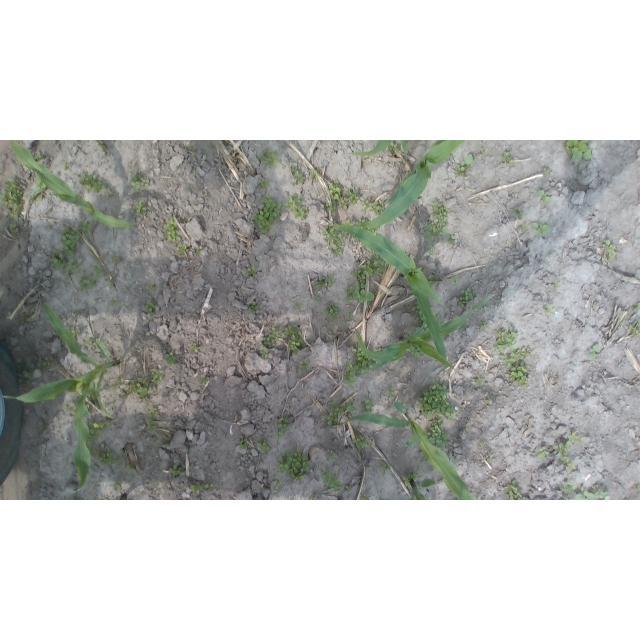Maize: (0, 301, 120, 493), (329, 224, 447, 373), (346, 402, 481, 500), (9, 140, 138, 230), (355, 294, 494, 368), (354, 141, 468, 230), (348, 140, 410, 156), (405, 476, 436, 500)
Weeds: (418, 382, 459, 421), (251, 193, 282, 235), (277, 449, 312, 482), (423, 221, 448, 256), (321, 221, 345, 256), (423, 418, 449, 449), (77, 172, 113, 194), (351, 345, 377, 375), (1, 177, 24, 207), (345, 283, 376, 305), (283, 195, 310, 220), (565, 140, 593, 164), (499, 348, 531, 369), (492, 326, 517, 351), (62, 226, 81, 258), (93, 444, 119, 466), (284, 325, 302, 356), (128, 376, 153, 398), (86, 420, 112, 441), (352, 261, 375, 283), (369, 249, 387, 276), (338, 188, 360, 210), (575, 486, 609, 500), (163, 216, 181, 242), (322, 467, 341, 491), (94, 264, 112, 288), (257, 148, 279, 167), (353, 431, 373, 451), (509, 366, 528, 387), (29, 182, 47, 204), (456, 287, 474, 309), (362, 199, 386, 215), (504, 480, 523, 500), (263, 327, 283, 346), (343, 360, 356, 389), (531, 220, 553, 237), (275, 416, 291, 439), (329, 179, 343, 205), (289, 166, 306, 187), (80, 271, 97, 292), (50, 248, 67, 269), (432, 198, 449, 219), (132, 173, 151, 190), (564, 431, 585, 446), (603, 239, 617, 261), (327, 400, 345, 417), (19, 366, 36, 384), (325, 302, 340, 322), (316, 275, 337, 289), (554, 442, 571, 458), (342, 397, 357, 414), (65, 259, 80, 276), (557, 479, 575, 493), (416, 314, 429, 333), (539, 189, 554, 205), (296, 359, 311, 375), (323, 412, 339, 427), (402, 471, 416, 488), (80, 219, 92, 238), (587, 343, 601, 359), (150, 368, 164, 384), (408, 345, 423, 359), (360, 398, 375, 412), (257, 439, 272, 453), (169, 463, 184, 477), (190, 482, 206, 495), (142, 299, 156, 313), (561, 457, 576, 470), (535, 447, 550, 460), (628, 323, 640, 339), (147, 407, 161, 420), (410, 300, 422, 315), (9, 204, 20, 220), (363, 225, 380, 235), (513, 207, 526, 220), (63, 405, 77, 417), (67, 326, 81, 338), (164, 351, 176, 365), (135, 201, 147, 215), (454, 163, 466, 177), (500, 150, 512, 164), (544, 302, 556, 315), (146, 420, 158, 433), (248, 301, 260, 314), (29, 168, 41, 181), (239, 436, 249, 451), (273, 476, 282, 492), (111, 376, 122, 389), (388, 141, 401, 152), (464, 153, 473, 168), (551, 278, 562, 290), (379, 460, 389, 473), (111, 252, 121, 265), (246, 266, 257, 277), (427, 274, 435, 288), (404, 438, 414, 449), (259, 179, 269, 190), (9, 223, 20, 233), (341, 219, 354, 227), (36, 360, 49, 368), (111, 478, 121, 488), (18, 315, 28, 325), (176, 243, 186, 253), (325, 204, 336, 213), (260, 347, 268, 359), (86, 440, 93, 453), (39, 421, 46, 433), (387, 390, 396, 399), (64, 162, 73, 171), (448, 236, 457, 245), (309, 168, 317, 178), (109, 299, 120, 306), (328, 452, 337, 460), (189, 344, 198, 352), (480, 321, 488, 330), (205, 483, 215, 490), (352, 234, 360, 242), (474, 378, 482, 386), (633, 302, 640, 311), (486, 454, 493, 463), (200, 377, 209, 384), (359, 494, 369, 500), (543, 167, 551, 174), (520, 224, 528, 231), (97, 255, 104, 263), (451, 275, 458, 283), (294, 300, 300, 309), (127, 464, 133, 473), (33, 155, 42, 161), (372, 348, 382, 353), (345, 311, 353, 317), (359, 219, 368, 224), (196, 246, 202, 253), (345, 485, 352, 491), (84, 339, 90, 346), (561, 496, 571, 500), (149, 284, 155, 289), (636, 486, 640, 493), (152, 191, 156, 198), (400, 400, 405, 405), (308, 495, 313, 500), (316, 296, 321, 301), (487, 398, 492, 403), (495, 299, 500, 303), (362, 245, 366, 250), (637, 319, 640, 324)
